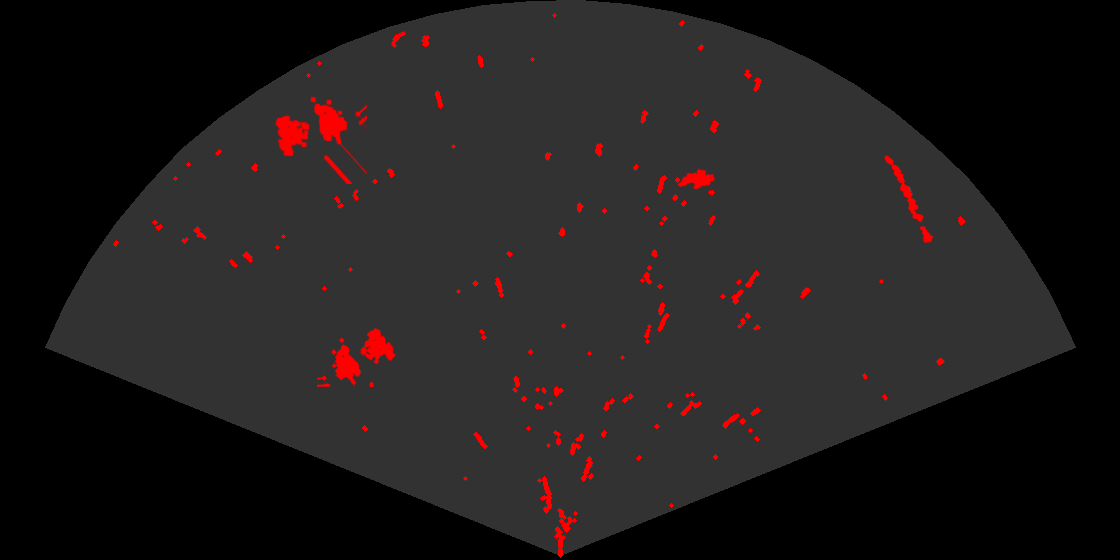AUV: (676, 167, 717, 191)
cage: (274, 95, 367, 184), (317, 327, 397, 387)
chain: (883, 154, 935, 245)
